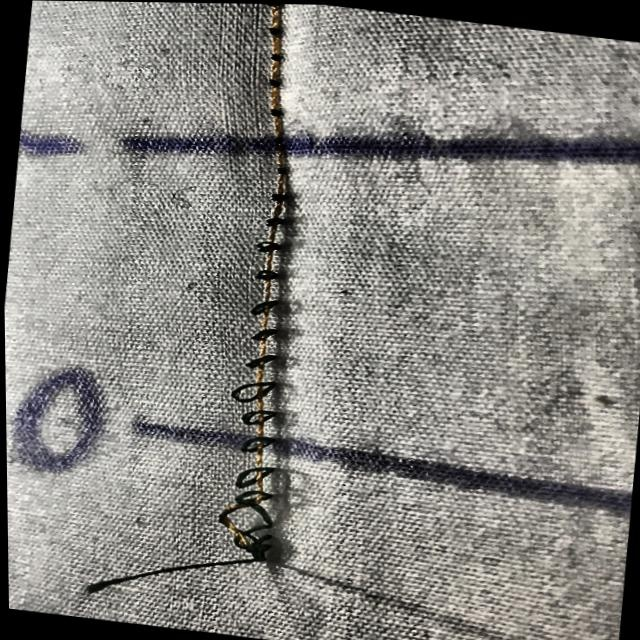Stitch: (38, 171, 355, 639), (56, 441, 333, 640)
